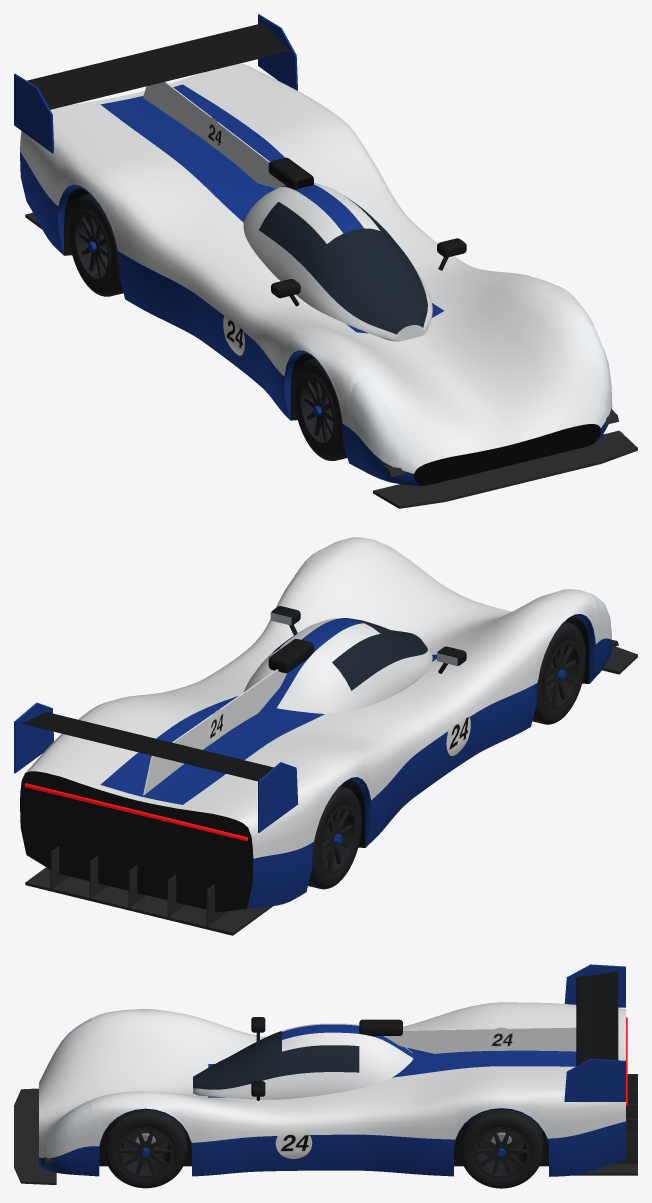
Rendered from endurance_prototype.glb.
3 renders of one model, top to bottom at view 1: azimuth 30°, elevation 25°; view 2: azimuth 150°, elevation 25°; view 3: azimuth 270°, elevation 25°, orthographic. The views are drawn at different scales.
Visible parts, largest first — view 1: Body, Wheel_RR, Wheel_FR; view 2: Body, Wheel_RR, Wheel_FR; view 3: Body, Wheel_RL, Wheel_FL.
Part boxes in pixels (x1,y1,x2,y2): Body: (14,14,637,508); Wheel_RR: (68,193,123,296); Wheel_FR: (294,358,347,460); Body: (14,537,637,935); Wheel_RR: (308,786,361,889); Wheel_FR: (532,621,585,724); Body: (14,964,637,1184); Wheel_RL: (460,1109,542,1188); Wheel_FL: (104,1110,187,1188).
Bounding box in the file's own units: 2 × 1.22 × 5.26.
16 materials, 3 textured.
